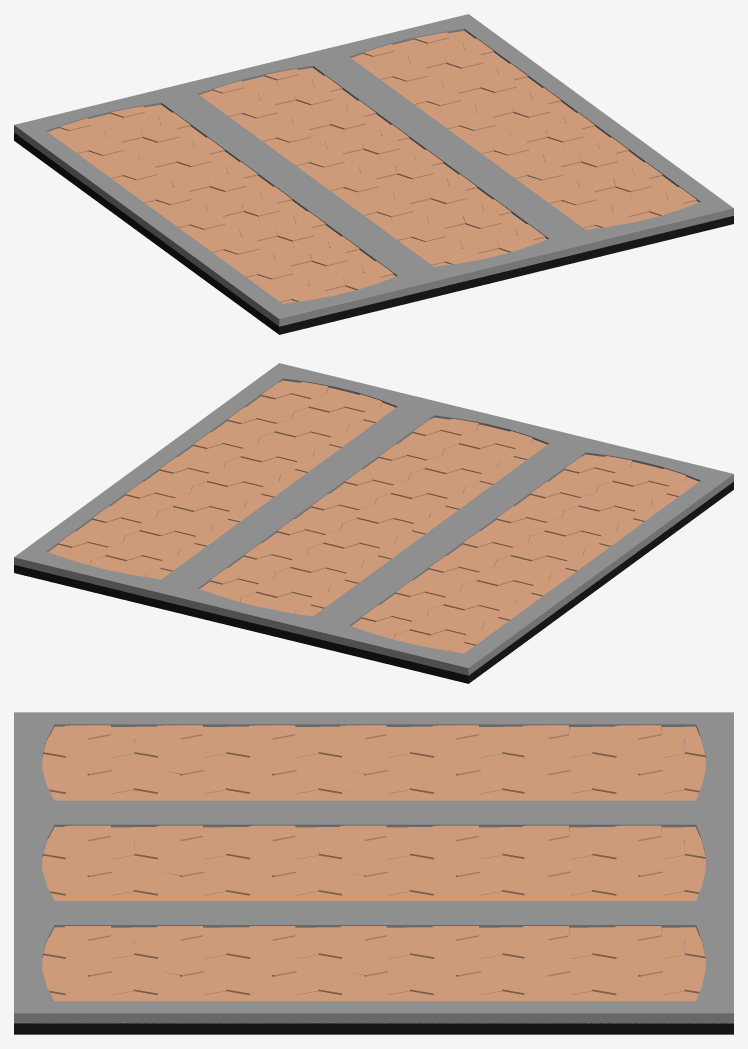
Rendered from floor_tier15.fbx.
3 renders of one model, top to bottom at view 1: azimuth 30°, elevation 25°; view 2: azimuth 150°, elevation 25°; view 3: azimuth 270°, elevation 25°, orthographic. The views are drawn at different scales.
Parts seen in each view (by area): view 1: Cube.155, Cube.002, Cube.001; view 2: Cube.155, Cube.002, Cube.001; view 3: Cube.155, Cube.002, Cube.001.
Boxes of the visible parts, <box> form: Cube.155: <box>48,31,698,303</box>; Cube.002: <box>14,14,733,326</box>; Cube.001: <box>14,132,733,334</box>; Cube.155: <box>48,380,698,653</box>; Cube.002: <box>14,363,733,675</box>; Cube.001: <box>14,481,733,683</box>; Cube.155: <box>42,725,705,1001</box>; Cube.002: <box>14,712,733,1023</box>; Cube.001: <box>14,1023,733,1034</box>.
Bounding box in the file's own units: 654 × 21.64 × 662.
